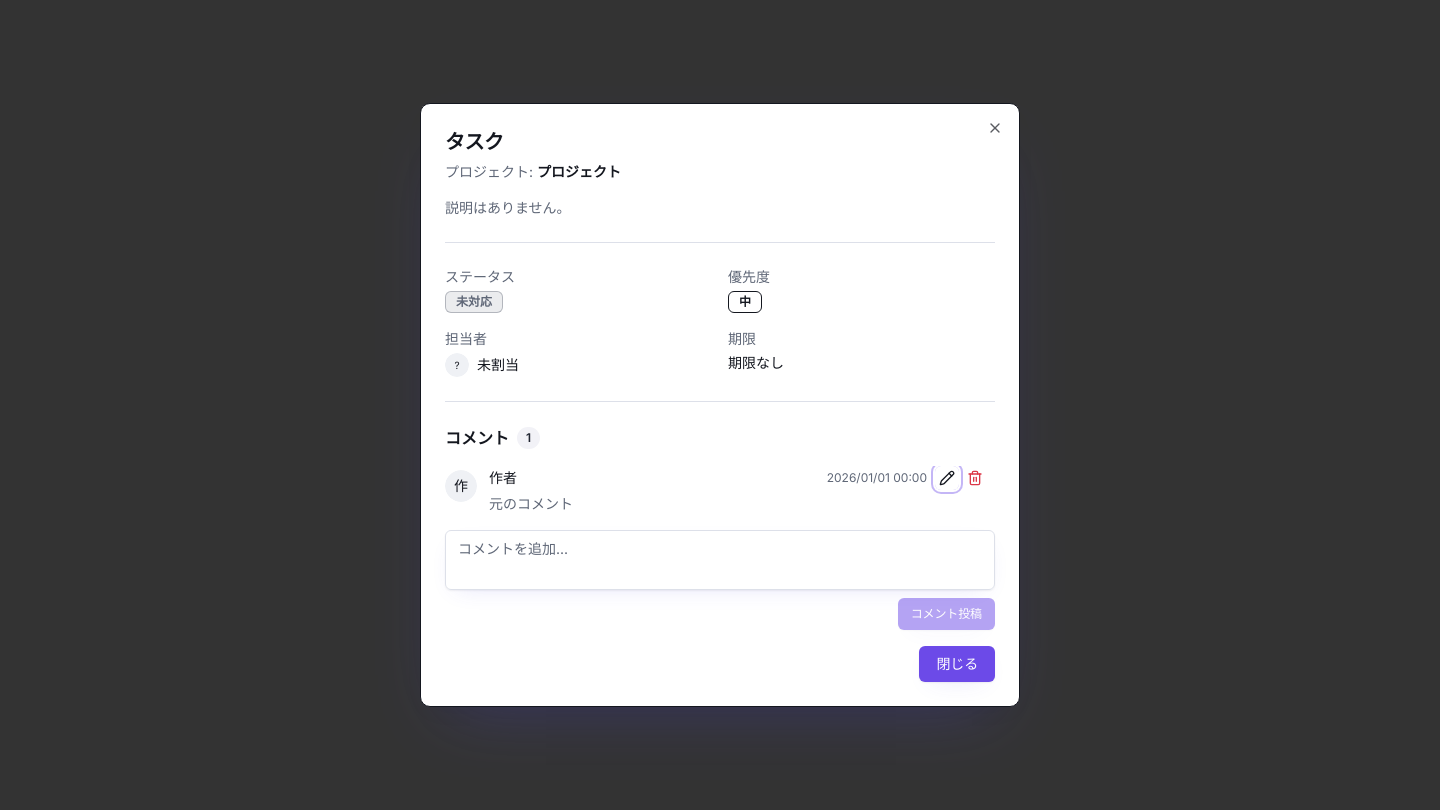
Test case: 送信後の下書きと成功通知 › 編集を始めても、進行中の投稿成功は作成フォームをリセットする
Type "投稿中の下書き" into the text box named "コメント本文" at (720, 560), box [445,530,995,590]
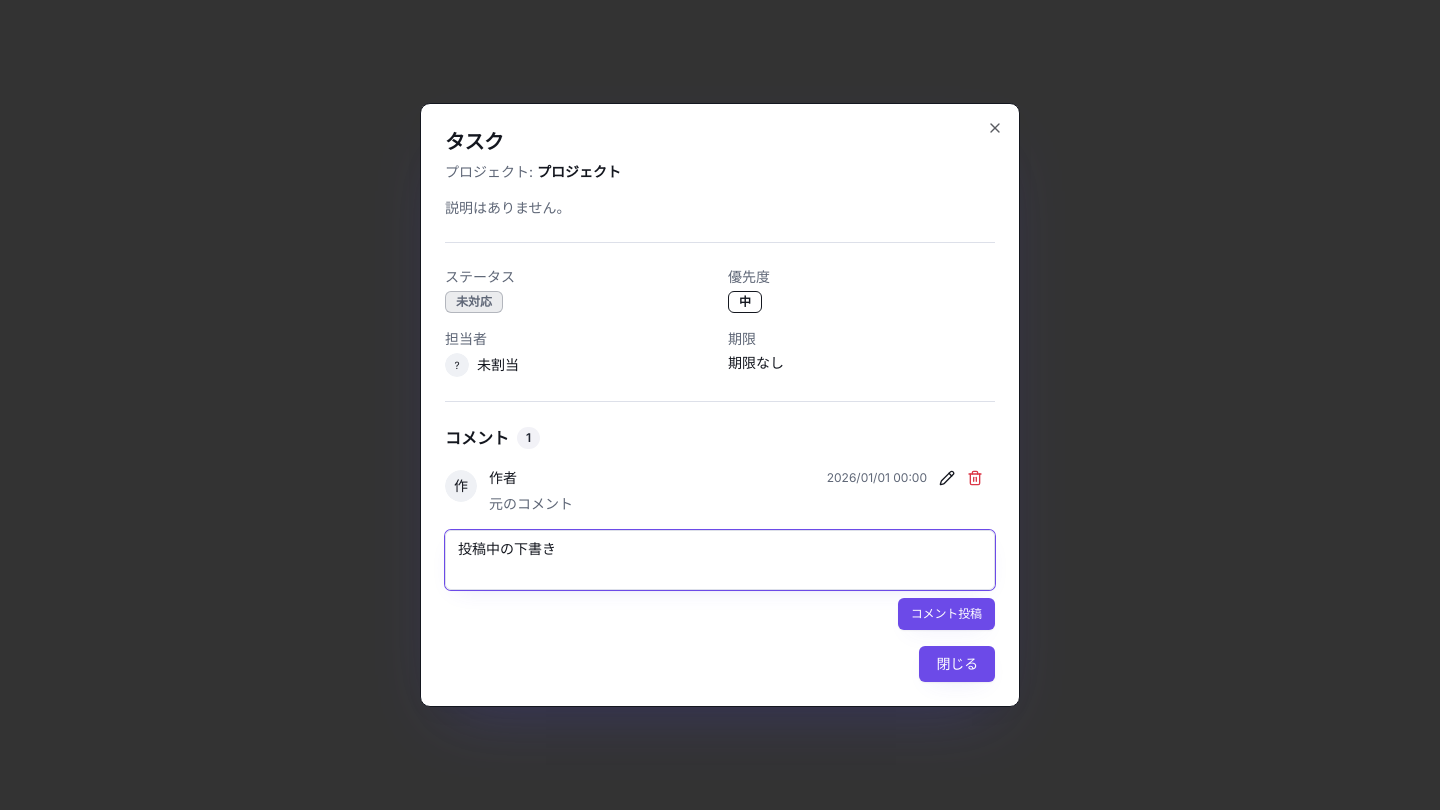
Click the button "コメント投稿" at (946, 614), box [898,598,995,630]
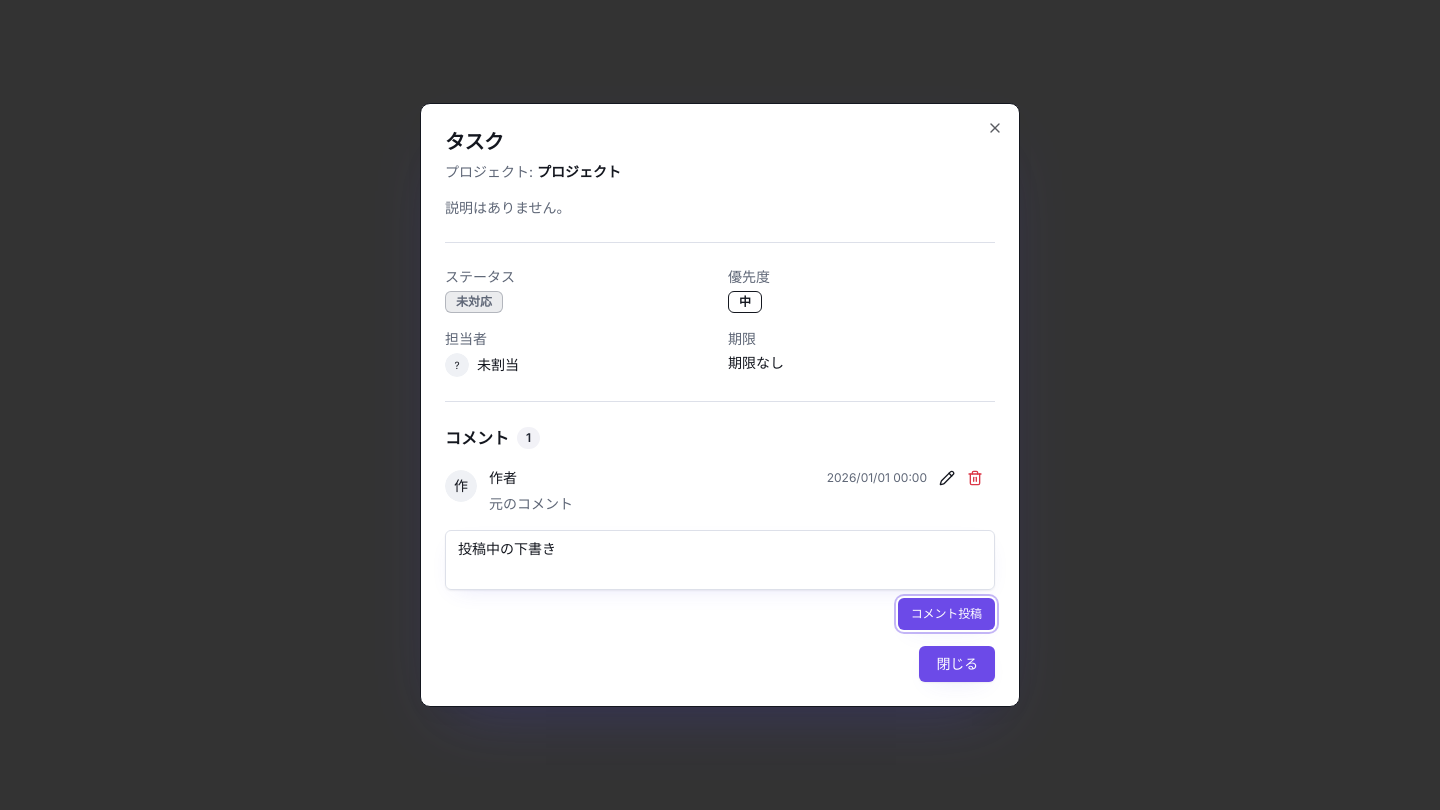
投稿が返る前に別コメントの編集を始める（編集用の世代だけが進む）
Click the button named "コメントを編集" at (947, 478), box [935,466,959,490]
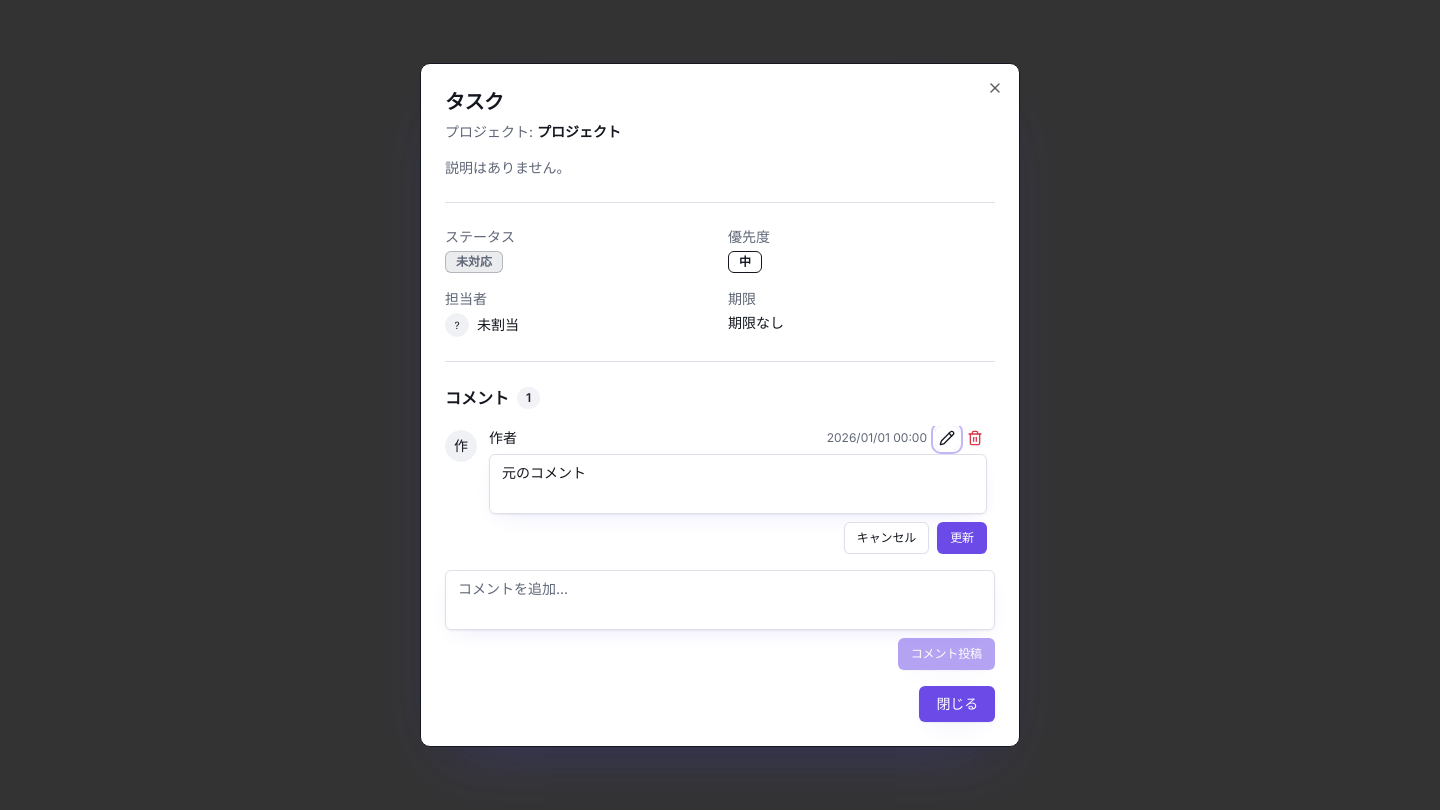
Result: the text box named "コメント本文" is empty at [445,570,995,630]
Result: the text box showing "元のコメント" is shown at [489,454,987,514]
